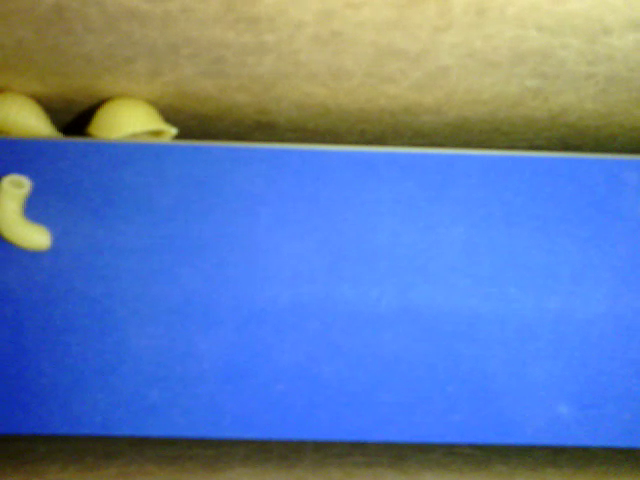elbow: (1, 173, 53, 260)
shell: (87, 95, 181, 140), (1, 88, 69, 140)
